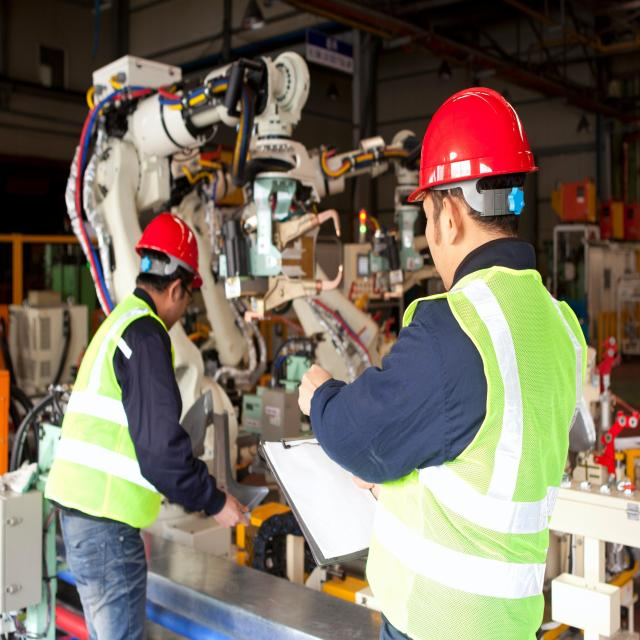Reflective-Jacket: (363, 259, 585, 640), (43, 296, 176, 528)
Safety-Helmet: (405, 82, 540, 207), (132, 206, 204, 287)
